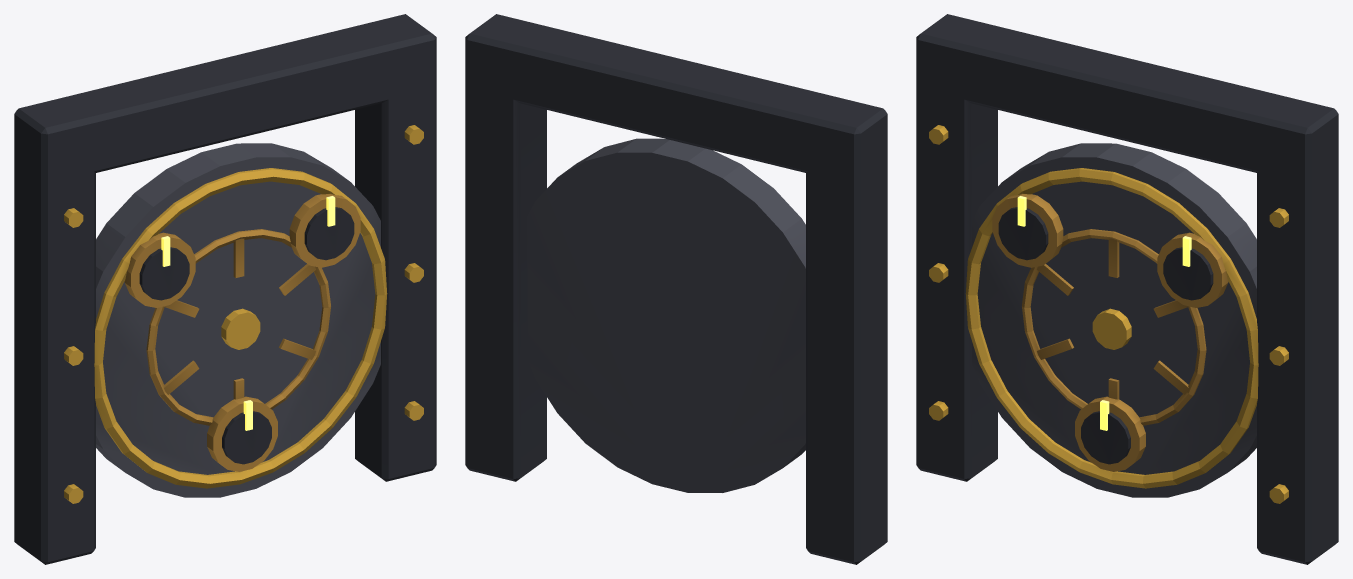
The model's file is vault_door.glb.
3 views of the same model, side by side, from view 1: azimuth 30°, elevation 25°; view 2: azimuth 150°, elevation 25°; view 3: azimuth 330°, elevation 25° (orthographic).
Visible parts, largest first — view 1: vault_door, vault_door.door, vault_door.dial3, vault_door.dial2, vault_door.dial1; view 2: vault_door, vault_door.door; view 3: vault_door, vault_door.door, vault_door.dial3, vault_door.dial1, vault_door.dial2.
Boxes of the visible parts, left/top/right/bottom form: vault_door: left=14, top=14, right=436, bottom=564; vault_door.door: left=94, top=143, right=387, bottom=497; vault_door.dial3: left=207, top=396, right=277, bottom=471; vault_door.dial2: left=289, top=194, right=360, bottom=267; vault_door.dial1: left=124, top=232, right=195, bottom=307; vault_door: left=465, top=14, right=887, bottom=564; vault_door.door: left=527, top=138, right=805, bottom=492; vault_door: left=916, top=14, right=1338, bottom=564; vault_door.door: left=965, top=143, right=1258, bottom=497; vault_door.dial3: left=1075, top=396, right=1145, bottom=471; vault_door.dial1: left=992, top=194, right=1063, bottom=267; vault_door.dial2: left=1157, top=232, right=1228, bottom=307.
Bounding box in the file's own units: 3.6 × 3.8 × 0.63.
